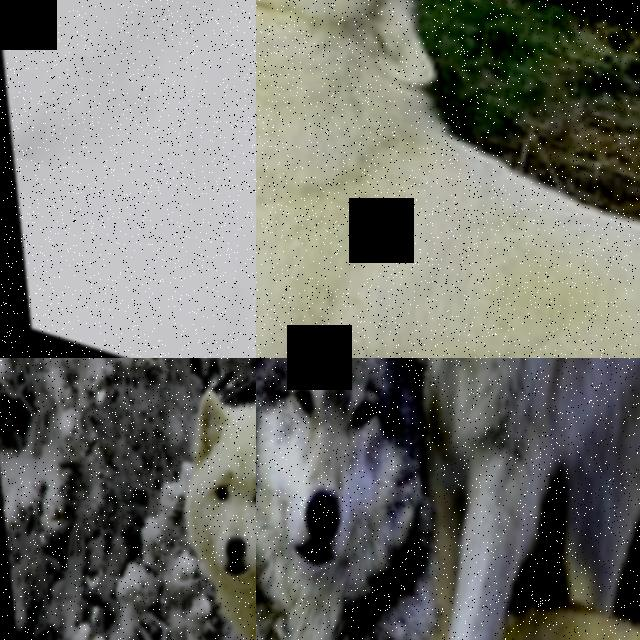wolf: (256, 0, 640, 358), (256, 358, 590, 640), (256, 358, 640, 596), (101, 358, 256, 640), (172, 0, 256, 358)
